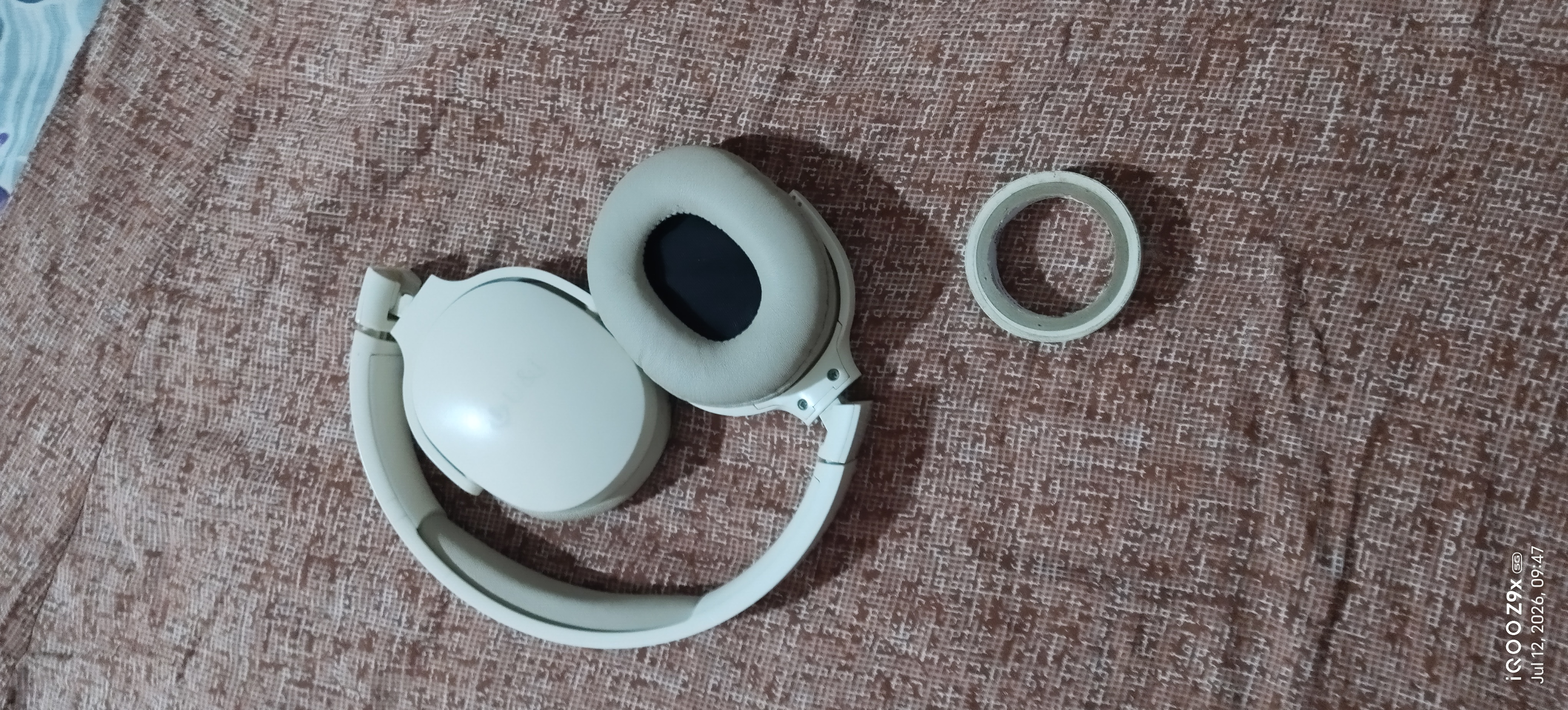tape_roll: (945, 144, 1161, 365)
